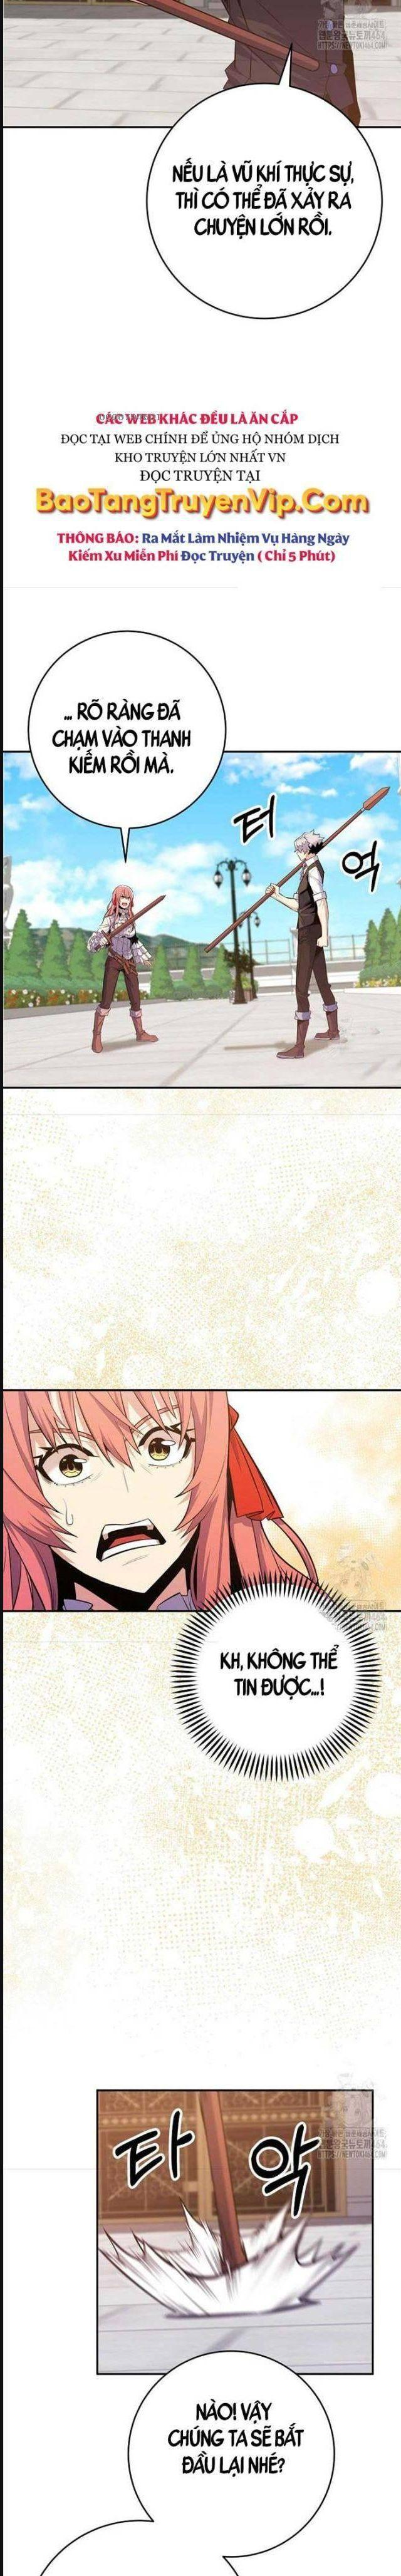quangcao: (31, 401, 388, 570)
